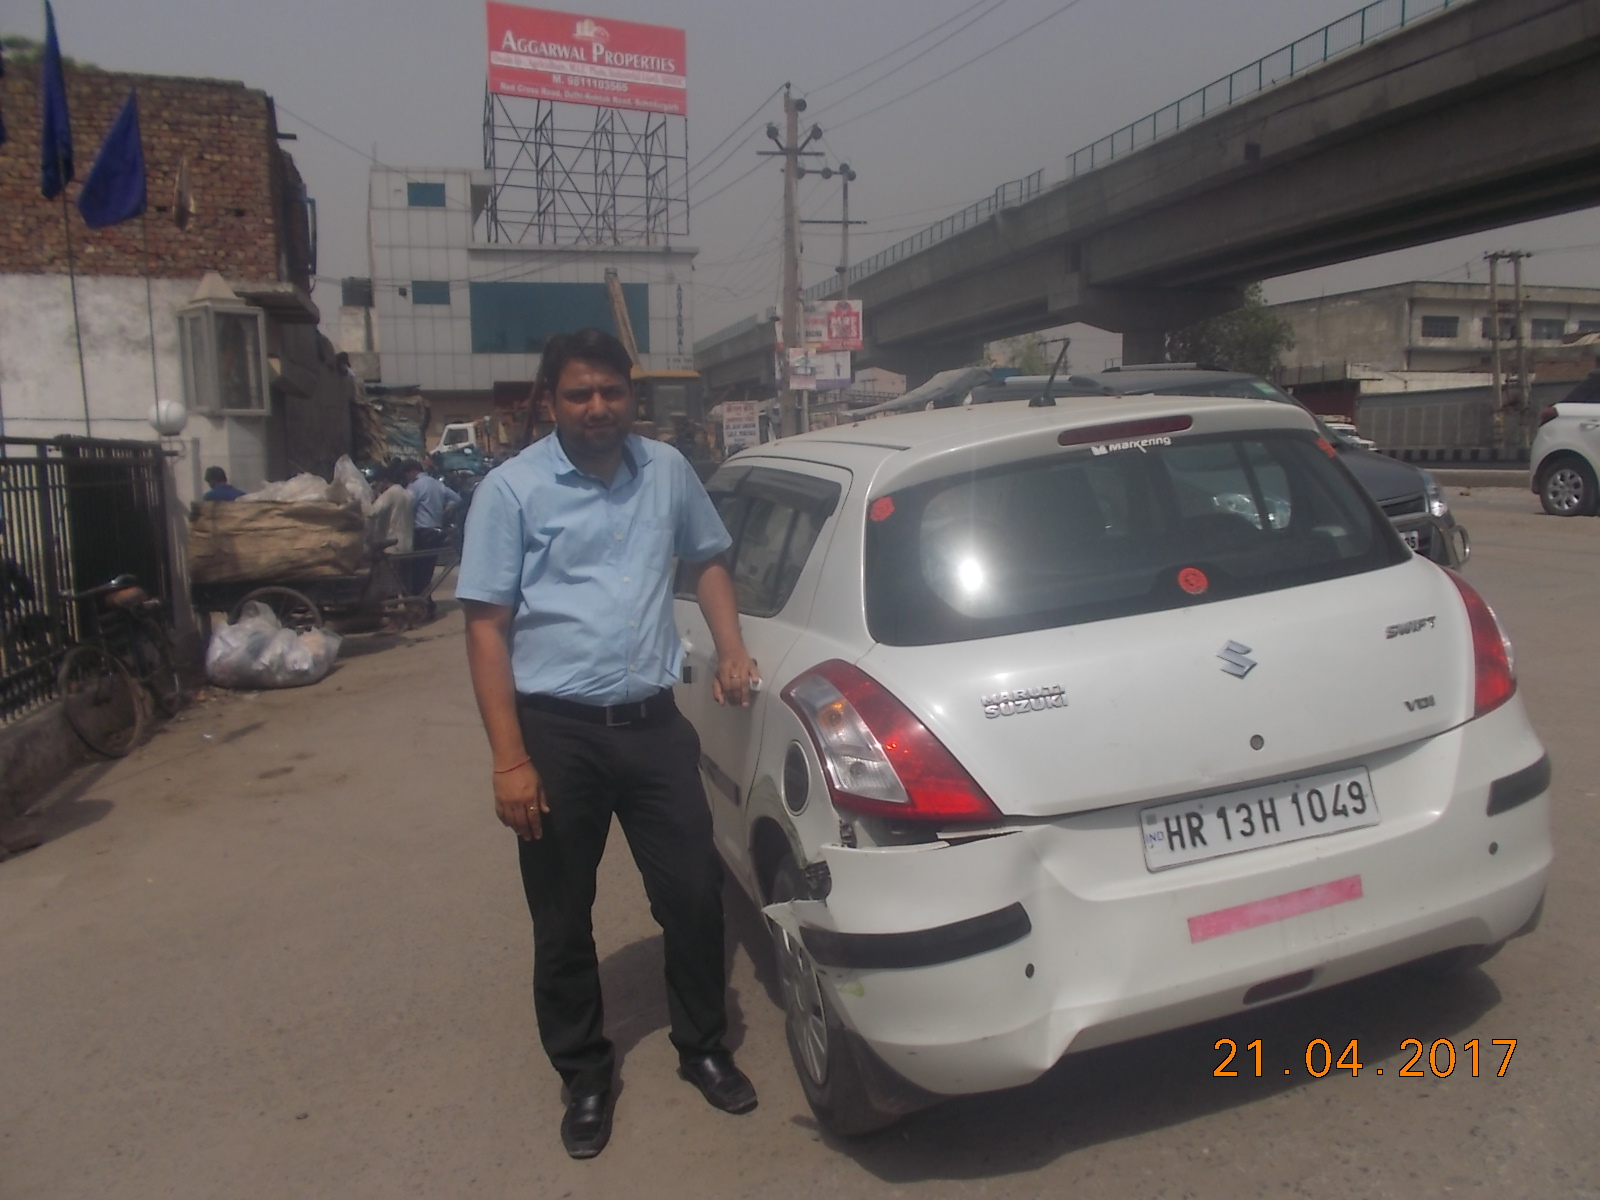Dent: (983, 843, 1085, 1070)
Dislocation: (741, 832, 888, 953)
